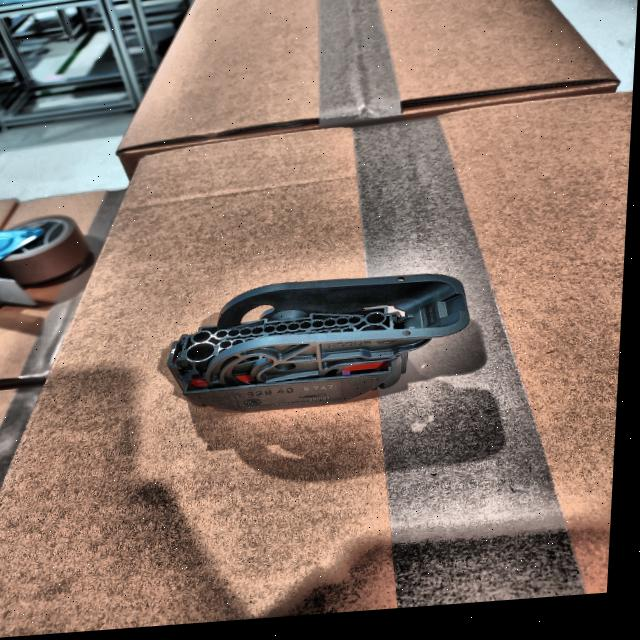P38: (171, 281, 473, 416)
